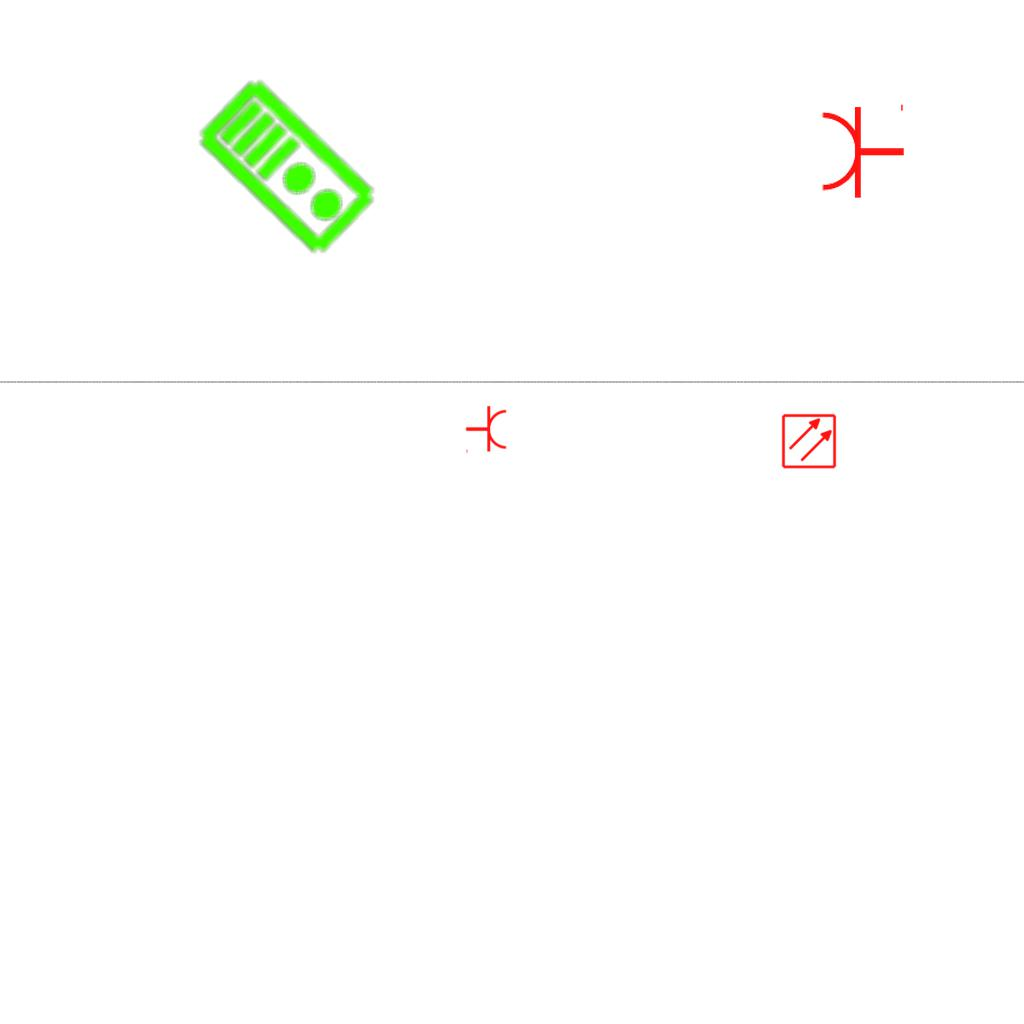Gegensprechanlage_mit_Video: (192, 70, 385, 262)
RMO_Rauchmelder_optischer: (781, 413, 837, 469)
Schukosteckdose_einfach: (819, 100, 906, 200), (465, 405, 508, 455)
